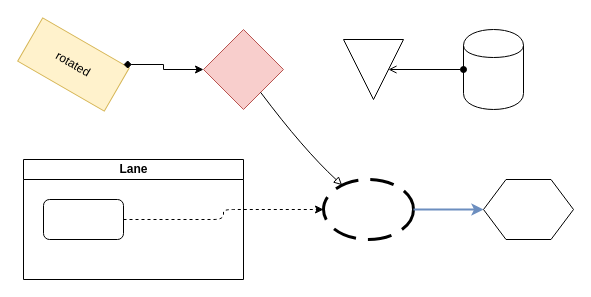
Image size: 591x297. Some labels were removed from this diagram. The shapes that lost their labels are listed below. From the top down, each one's centre as x and y in pixels, then its label:
(493,69): DB
(83,219): in lane
